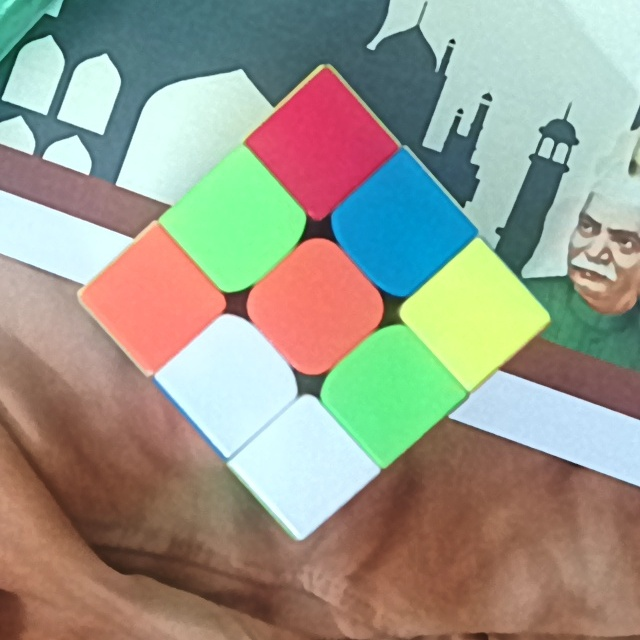tile: (199, 180, 271, 268), (349, 351, 428, 431), (436, 277, 513, 356), (280, 264, 351, 347), (115, 264, 191, 340), (283, 104, 356, 183), (194, 342, 267, 419), (367, 184, 437, 264), (271, 427, 341, 504)
